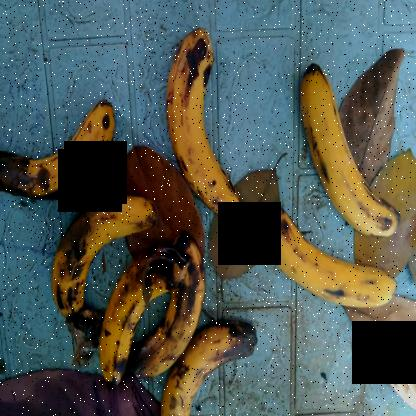overripe: (156, 17, 242, 228)
ripe: (291, 52, 408, 242), (256, 205, 402, 327)
rotten: (40, 185, 160, 313), (0, 95, 118, 216), (94, 244, 180, 391), (151, 318, 264, 416)
